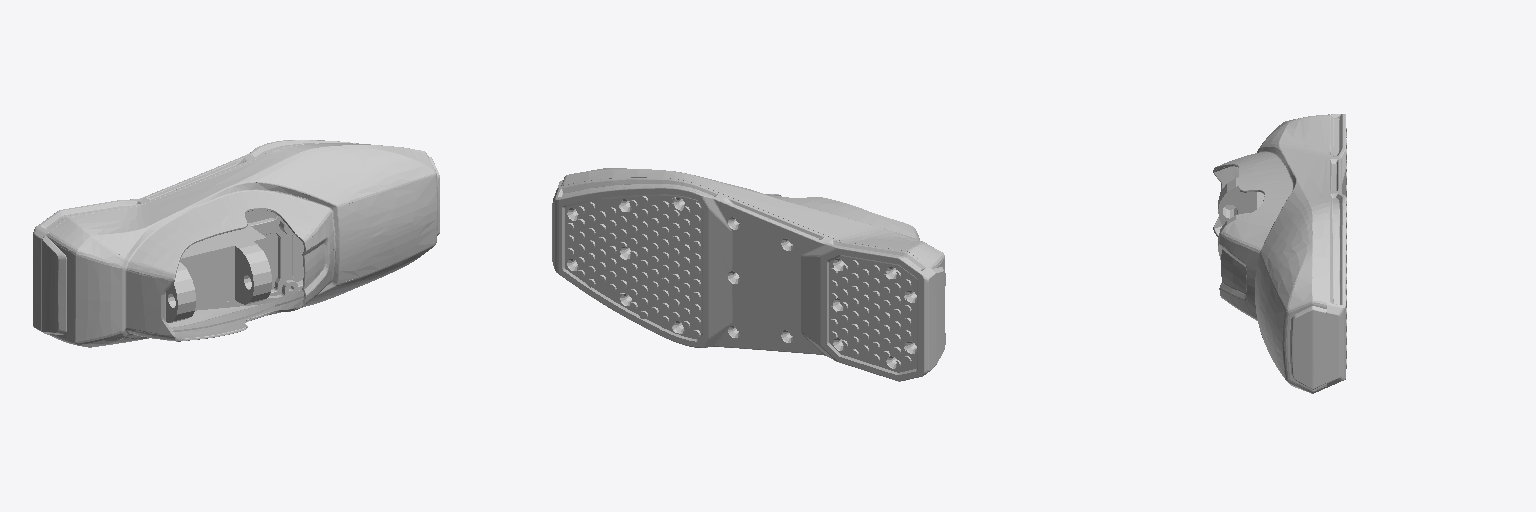
3 renders of one model, left to right at view 1: azimuth 30°, elevation 25°; view 2: azimuth 150°, elevation 25°; view 3: azimuth 270°, elevation 25°, orthographic.
Parts seen in each view (by area): view 1: leg_r6_link; view 2: leg_r6_link; view 3: leg_r6_link.
Boxes of the visible parts, box(x1,y1,x2,y2) form: leg_r6_link: box(33, 140, 439, 347); leg_r6_link: box(552, 168, 945, 381); leg_r6_link: box(1213, 114, 1346, 393).
Size of the model in its own units: 0.2525 by 0.098 by 0.0763.